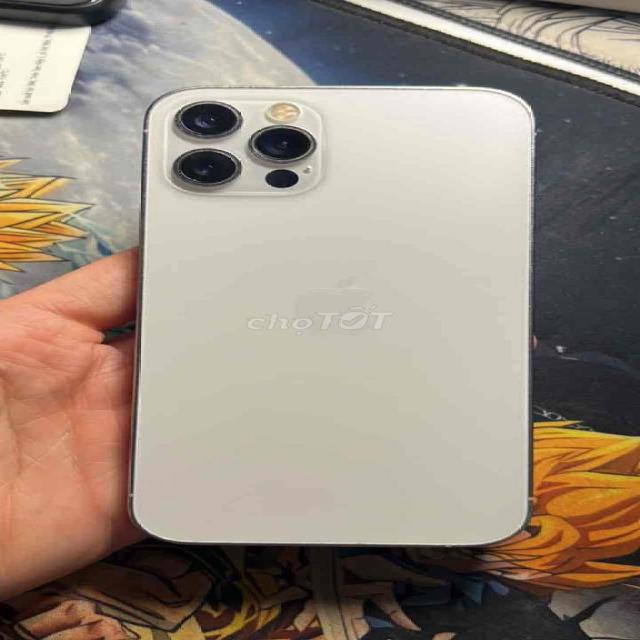gen_12_13: (118, 76, 546, 554)
